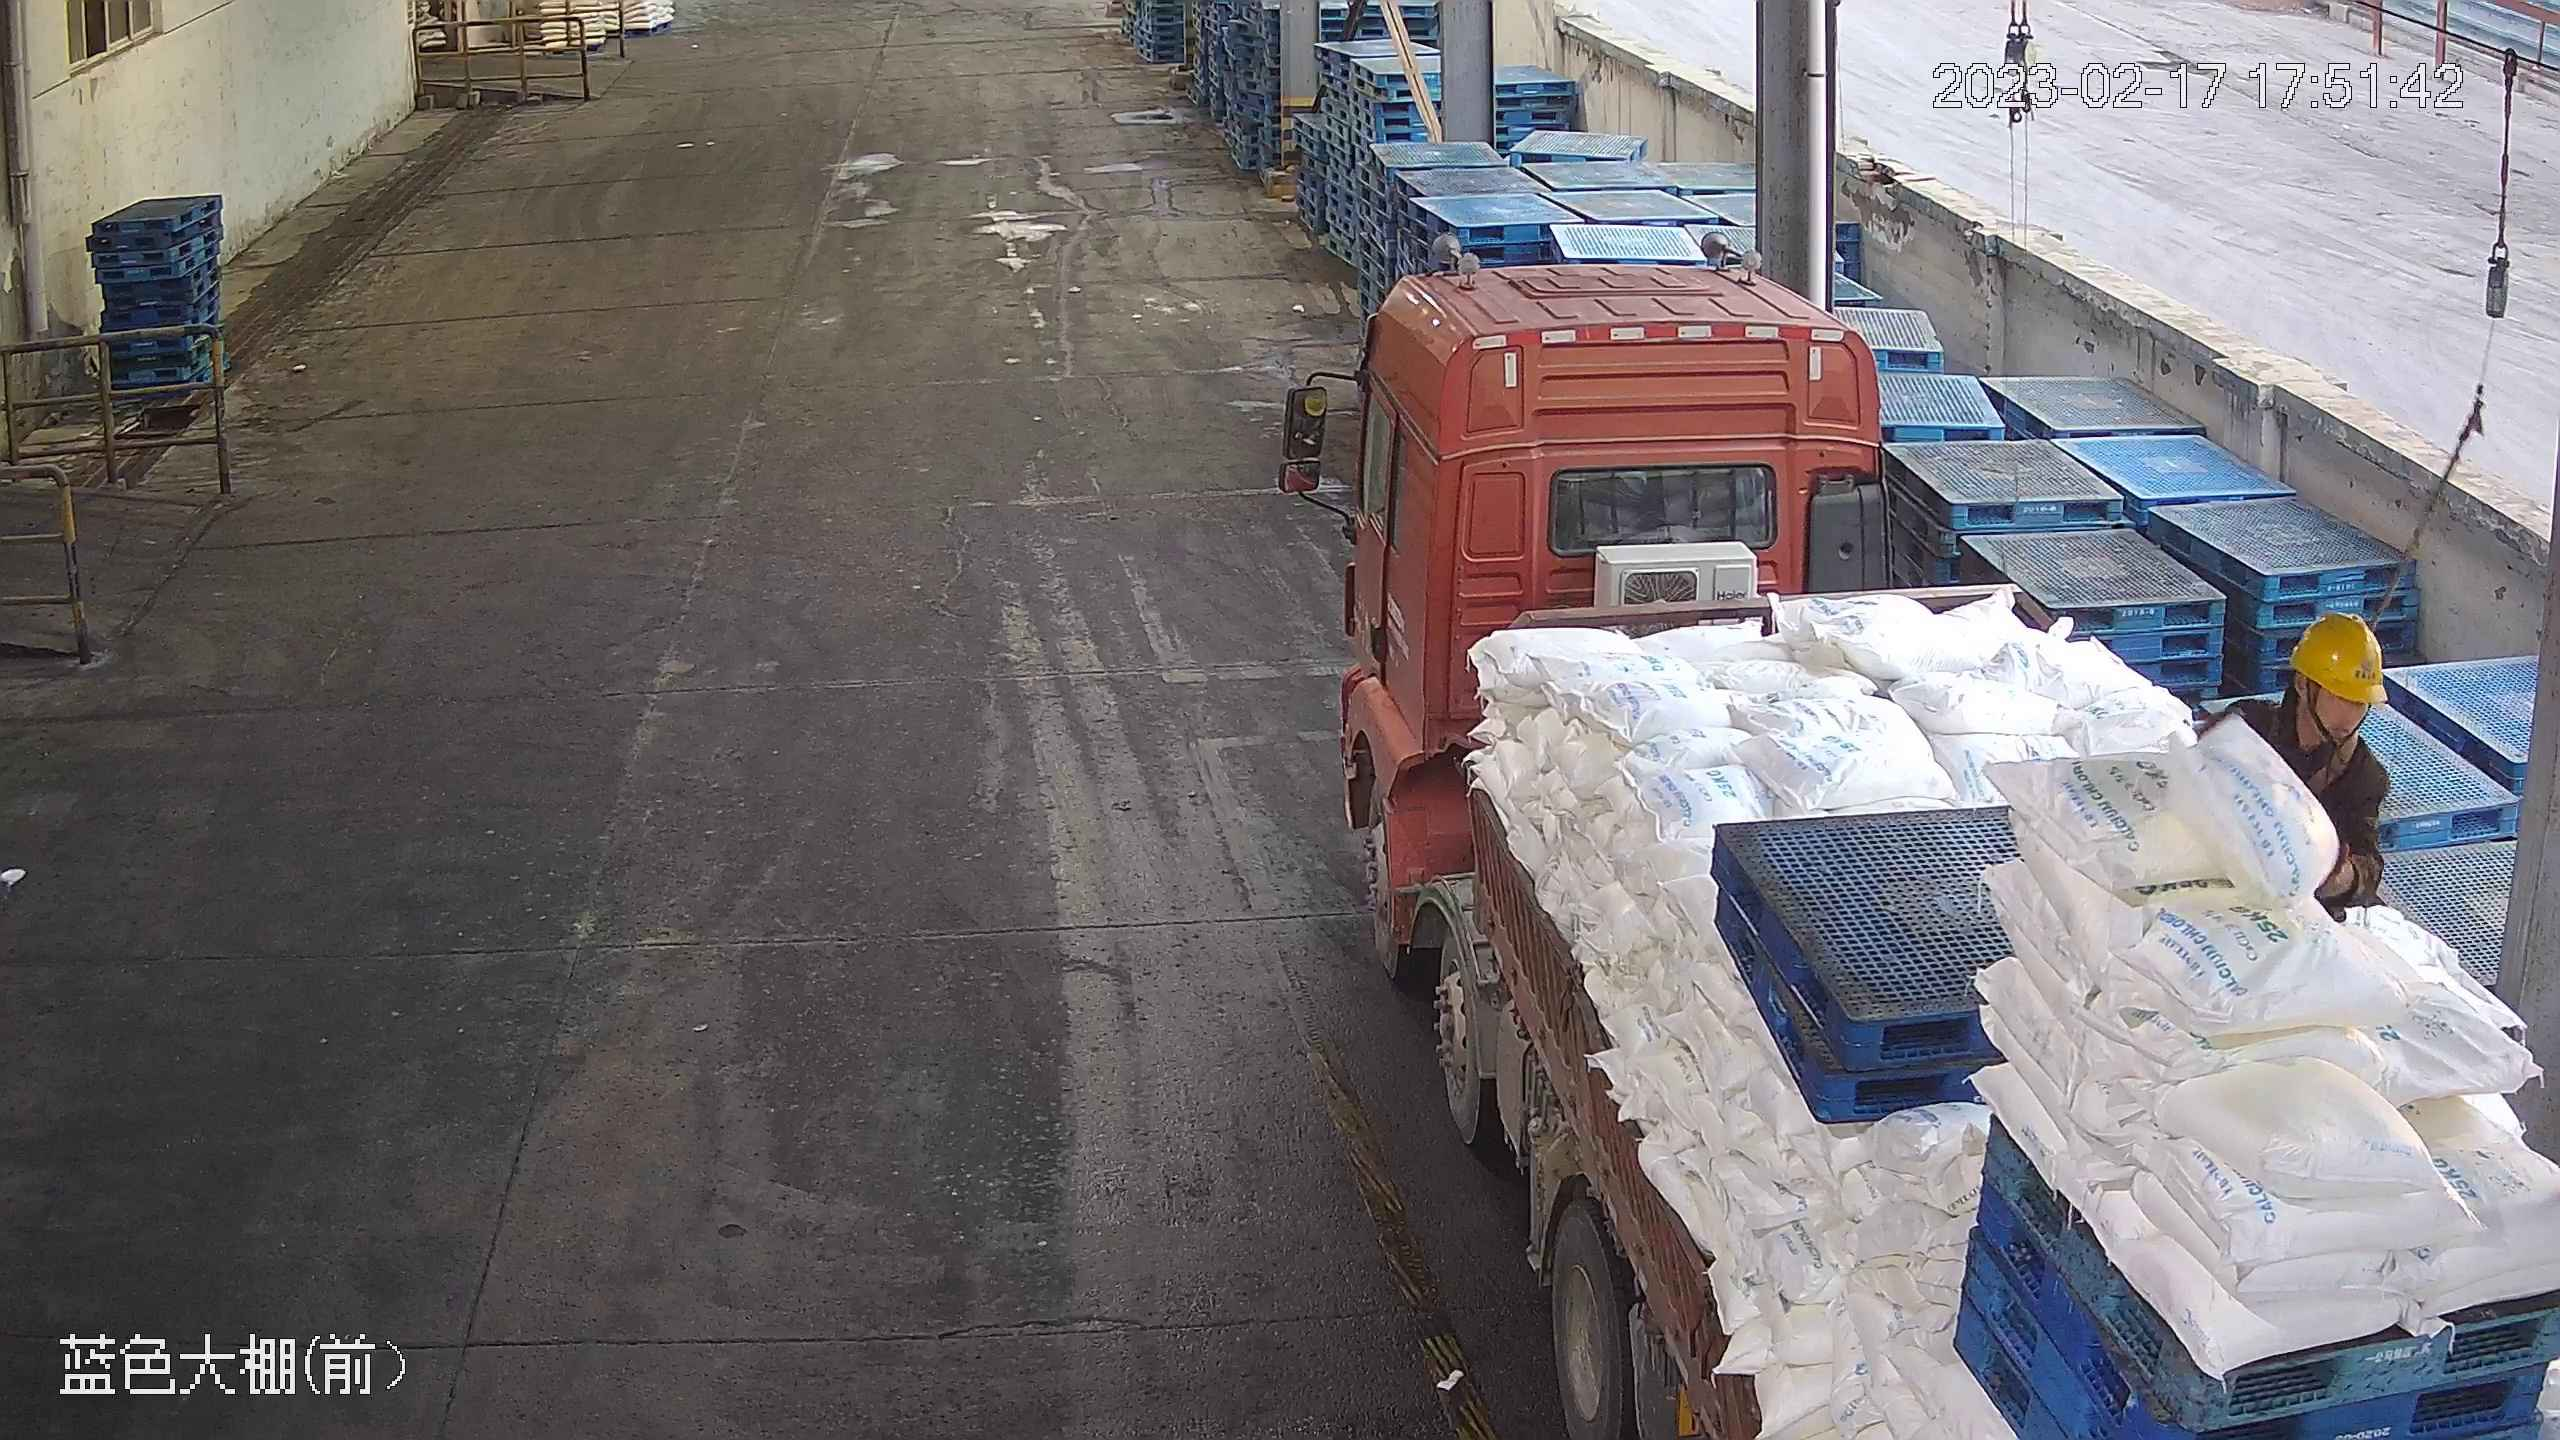belt: (2259, 701, 2381, 799)
head: (2212, 610, 2394, 786)
helmet: (2287, 610, 2389, 704)
truck: (1278, 225, 2560, 1440)
